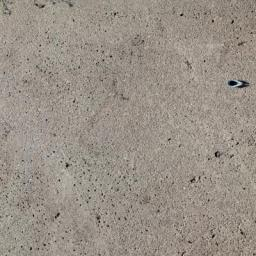FOD: (222, 76, 256, 90)
